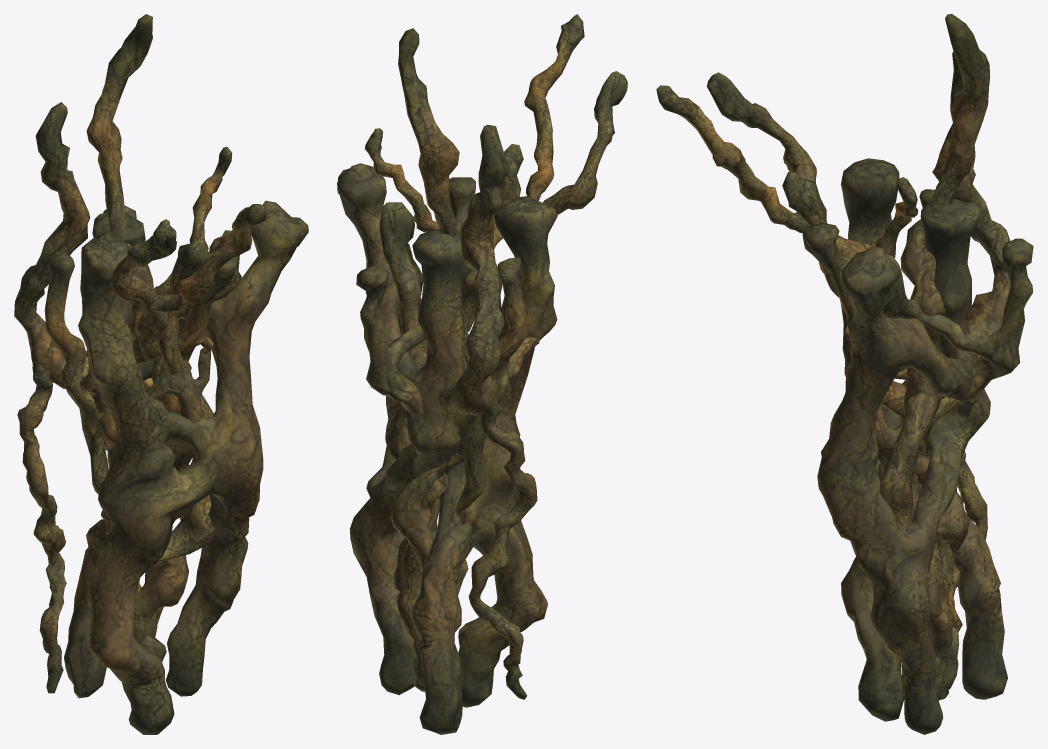
Rendered from Biomass - Mesh T-DsEnhbvj.glb.
3 renders of one model, left to right at view 1: azimuth 30°, elevation 25°; view 2: azimuth 150°, elevation 25°; view 3: azimuth 270°, elevation 25°, orthographic. The views are drawn at different scales.
Visible parts, largest first — view 1: BiomassTC_1, BiomassTC_2, BiomassTC_3, BiomassTC_4, BiomassT_2, BiomassT_4; view 2: BiomassTC_1, BiomassTC_2, BiomassTC_4, BiomassT_2, BiomassTC_3, BiomassT_4, BiomassT_1; view 3: BiomassTC_1, BiomassTC_2, BiomassTC_4, BiomassT_4, BiomassT_2, BiomassTC_3.
Boxes of the visible parts, left/top/right/bottom form: BiomassTC_1: left=64, top=200, right=308, bottom=734; BiomassTC_2: left=80, top=14, right=266, bottom=643; BiomassTC_3: left=17, top=146, right=232, bottom=693; BiomassTC_4: left=44, top=205, right=237, bottom=625; BiomassT_2: left=14, top=102, right=188, bottom=662; BiomassT_4: left=135, top=230, right=241, bottom=594; BiomassTC_1: left=337, top=163, right=557, bottom=734; BiomassTC_2: left=390, top=14, right=627, bottom=573; BiomassTC_4: left=356, top=177, right=528, bottom=691; BiomassT_2: left=392, top=125, right=509, bottom=675; BiomassTC_3: left=364, top=128, right=537, bottom=699; BiomassT_4: left=379, top=202, right=468, bottom=686; BiomassT_1: left=459, top=481, right=482, bottom=531; BiomassTC_1: left=817, top=158, right=1007, bottom=734; BiomassTC_2: left=656, top=14, right=990, bottom=700; BiomassTC_4: left=803, top=189, right=1033, bottom=699; BiomassT_4: left=880, top=254, right=959, bottom=689; BiomassT_2: left=878, top=51, right=1010, bottom=693; BiomassTC_3: left=782, top=171, right=987, bottom=539.
Bounding box in the file's own units: 1.37 × 3.82 × 1.81.
1 material, 1 textured.
